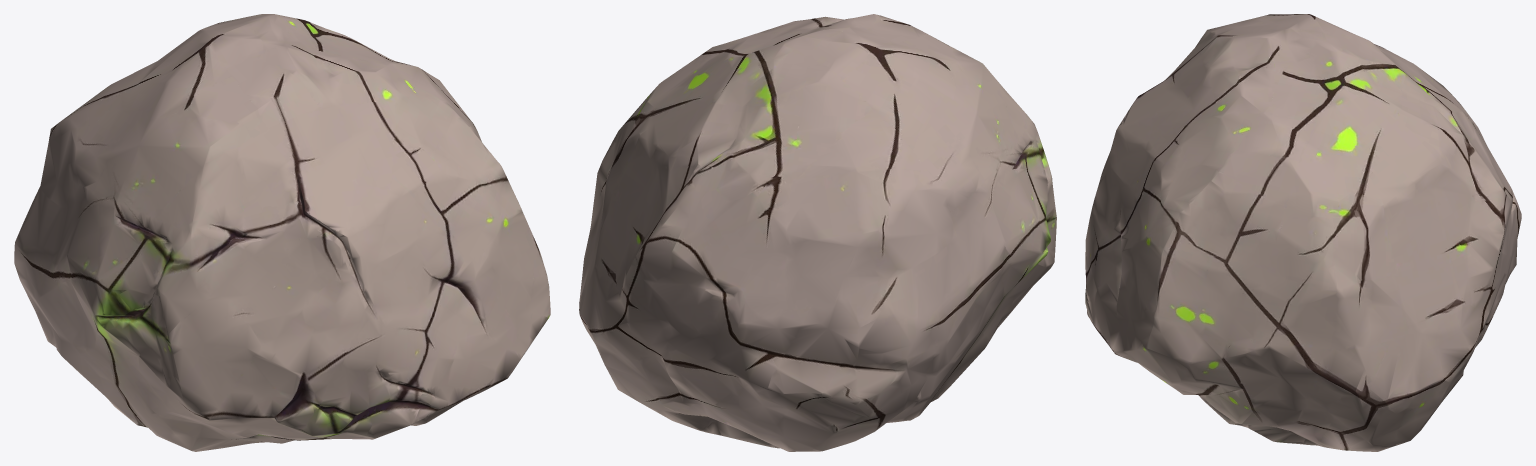
The model's file is rock2.glb.
The picture shows the model from 3 angles, left to right: view 1: azimuth 30°, elevation 25°; view 2: azimuth 150°, elevation 25°; view 3: azimuth 270°, elevation 25°; orthographic projection. The views are drawn at different scales.
Size of the model in its own units: 1.9 by 1.69 by 1.89.
Materials: 1 (1 with a texture image).
